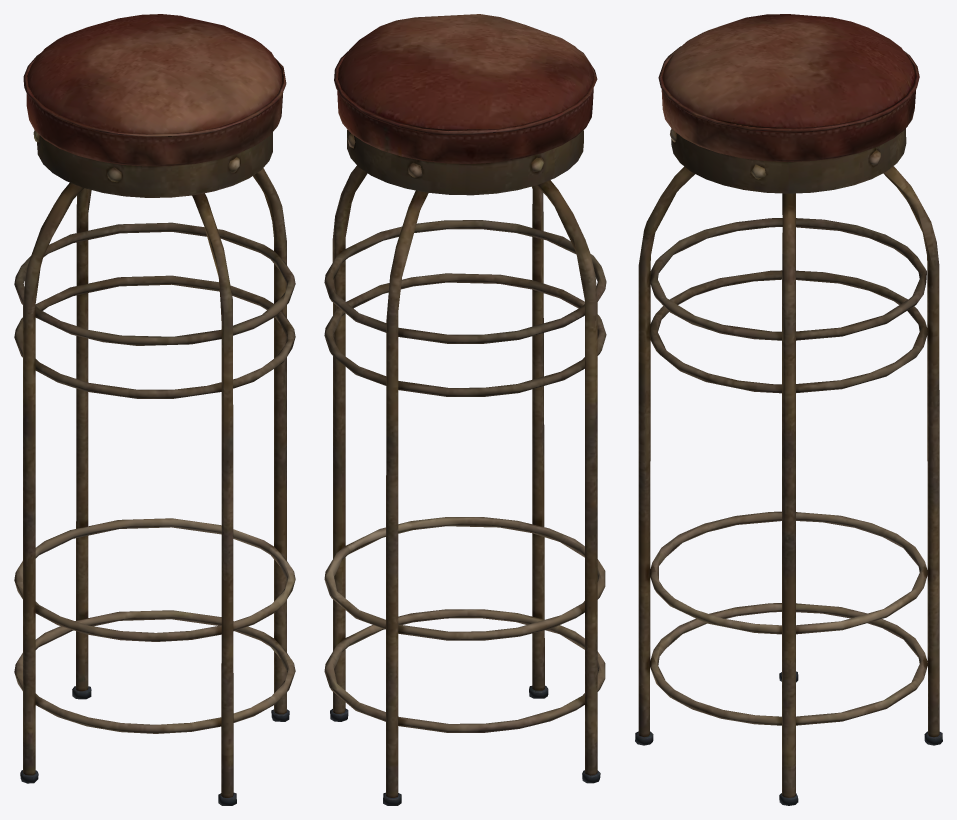
The model's file is metal_stool_01.glb.
The picture shows the model from 3 angles, left to right: view 1: azimuth 30°, elevation 25°; view 2: azimuth 150°, elevation 25°; view 3: azimuth 270°, elevation 25°; orthographic projection.
Visible parts, largest first — view 1: metal_stool_01; view 2: metal_stool_01; view 3: metal_stool_01.
Part boxes in pixels (x1,y1,x2,y2): metal_stool_01: [14, 14, 295, 805]; metal_stool_01: [324, 14, 606, 805]; metal_stool_01: [635, 14, 942, 805].
Bounding box in the file's own units: 0.3509 × 0.8823 × 0.3537.
1 material, 1 textured.
